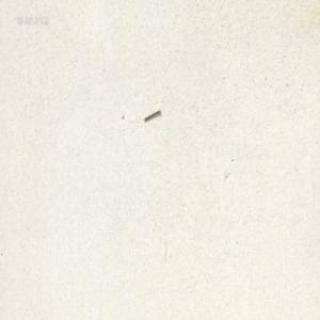Bolttrack_idkeyframe: (142, 106, 160, 120)
